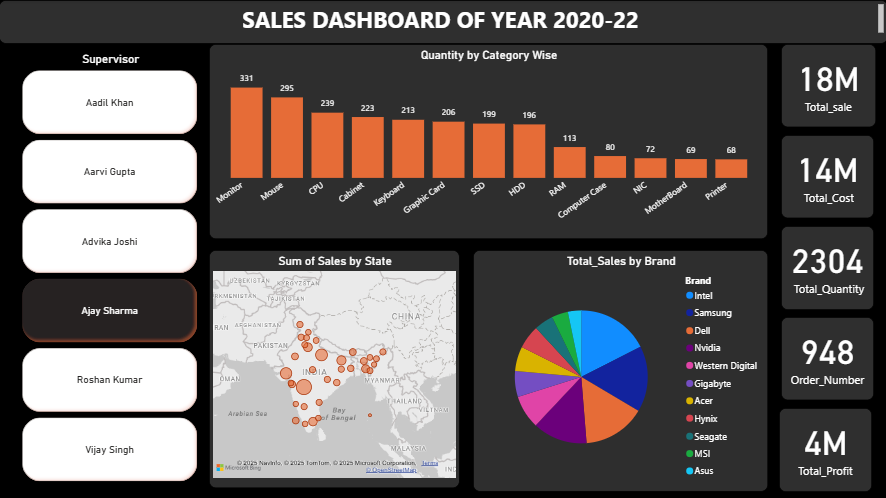

Layout of this report page (visuals, bound fields, positions):
{"tool":"powerbi","page":{"name":"Page 1","canvas":[1280,720],"ordinal":0},"visuals":[{"type":"textbox","box":[0,0,1280.2,63.4],"z":0},{"type":"card","fields":{"Values":["Sales_Data.Total_Sales"]},"box":[1126.1,63.4,136.8,119.5],"z":1000},{"type":"card","fields":{"Values":["Sales_Data.Total_Cost"]},"box":[1126.1,194.4,133.9,119.5],"z":2000},{"type":"card","fields":{"Values":["Sales_Data.Quantity"]},"box":[1126.1,325.4,133.9,121],"z":3000},{"type":"card","fields":{"Values":["Sales_Data.Order_Number"]},"box":[1126.1,456.5,133.9,119.5],"z":4000},{"type":"card","fields":{"Values":["Sales_Data.Total_Profit"]},"box":[1123.2,587.5,133.9,121],"z":5000},{"type":"clusteredColumnChart","title":"Quantity by Category Wise","fields":{"Y":["Sales_Data.Quantity"],"Category":["Sales_Data.Category"]},"box":[302.4,63.4,805,280.8],"z":6000},{"type":"pieChart","fields":{"Y":["Sales_Data.Total_Sales"],"Category":["Sales_Data.Brand"]},"box":[682.6,360,424.8,348.5],"z":7000},{"type":"map","fields":{"Category":["State_list.State"],"Size":["Sales_Data.Sales"]},"box":[302.4,360,361.4,342.7],"z":7001},{"type":"advancedSlicerVisual","fields":{"Values":["Supervisor.Supervisor"]},"box":[27.4,69.1,265,639.4],"z":7002}]}

Visuals, with their boxes in screenshot pixels (x1, y1, x2, y2), scaled from the page's 1280x720 canvas onto the 886x498 screenshot:
textbox: select_region(0, 0, 885, 44)
card - Sales_Data.Total_Sales: select_region(779, 44, 874, 127)
card - Sales_Data.Total_Cost: select_region(779, 134, 872, 217)
card - Sales_Data.Quantity: select_region(779, 225, 872, 309)
card - Sales_Data.Order_Number: select_region(779, 316, 872, 398)
card - Sales_Data.Total_Profit: select_region(777, 406, 870, 490)
"Quantity by Category Wise" clusteredColumnChart: select_region(209, 44, 767, 238)
pieChart - Sales_Data.Total_Sales x Sales_Data.Brand: select_region(472, 249, 767, 490)
map - State_list.State x Sales_Data.Sales: select_region(209, 249, 459, 486)
advancedSlicerVisual - Supervisor.Supervisor: select_region(19, 48, 202, 490)
